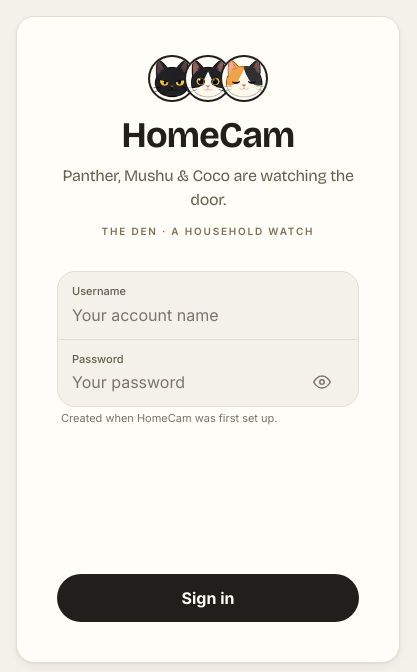
Test case: Login page › shows a generic error message on non-401 failures
The width and height of the screenshot is (417, 672).
Type "alice" into the field labelled "Username" at x=208, y=315, box [72,303,344,327]
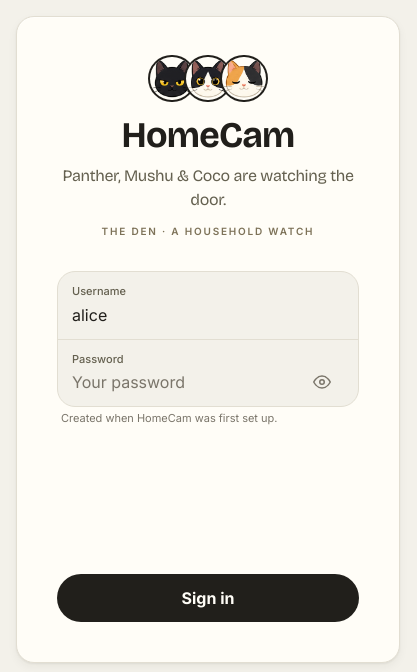
Type "hunter2" into the password field labelled "Password" at x=208, y=382, box [72,370,344,394]
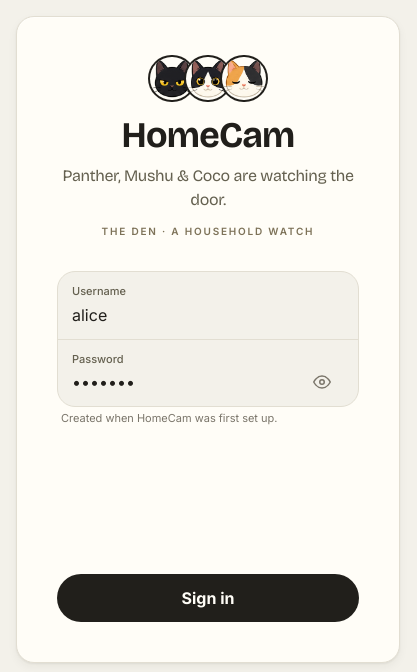
Click the button "Sign in" at x=208, y=598, box [57,574,359,622]
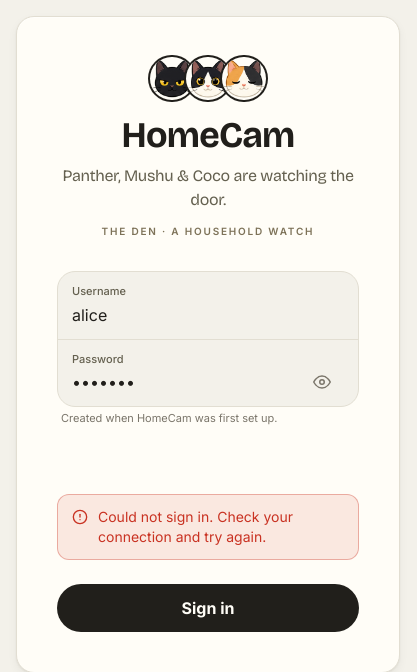
Check: the message "Could not sign in. Check your connection and try again." is shown, box [57,494,359,560]
